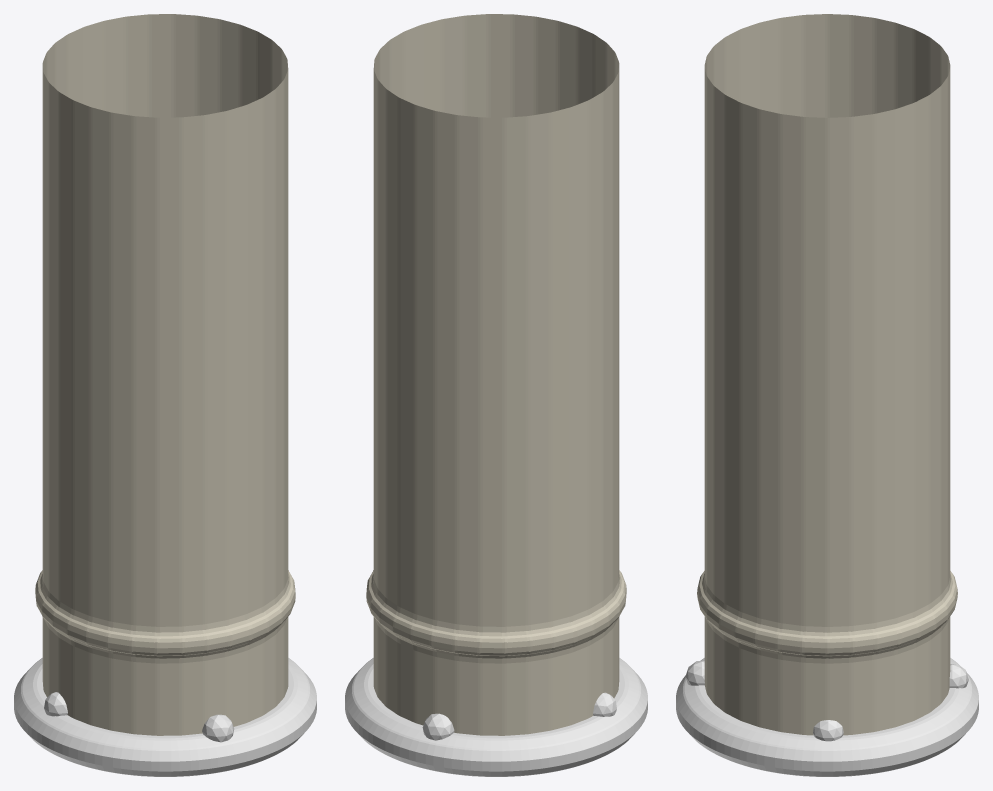
File: canos.fbx
The picture shows the model from 3 angles, left to right: view 1: azimuth 30°, elevation 25°; view 2: azimuth 150°, elevation 25°; view 3: azimuth 270°, elevation 25°; orthographic projection.
Visible parts, largest first — view 1: Cylinder, Torus, Icosphere; view 2: Cylinder, Torus, Icosphere.002; view 3: Cylinder, Torus, Icosphere.001.
Boxes of the visible parts, x1,y1,x2,y2 form: Cylinder: (35,14,295,735); Torus: (14,658,316,776); Icosphere: (202,714,234,742); Cylinder: (366,14,626,735); Torus: (345,658,647,776); Icosphere.002: (422,713,454,740); Cylinder: (697,14,957,735); Torus: (676,658,978,776); Icosphere.001: (813,720,843,741).
Bounding box in the file's own units: 246 × 588 × 246.
